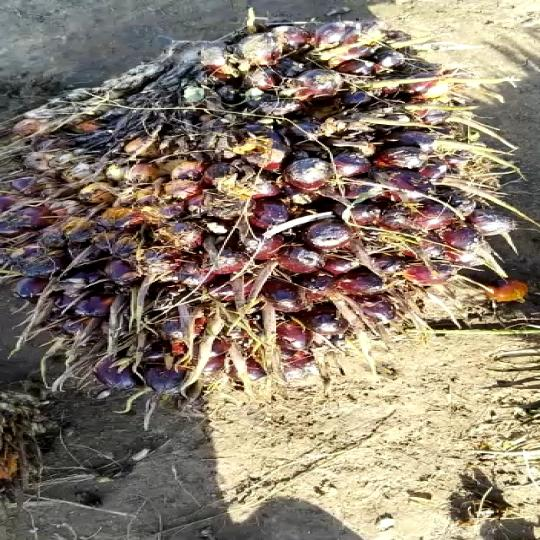kurang masak: (0, 8, 512, 397)
